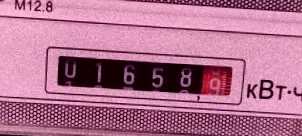0: (62, 56, 76, 79)
1: (92, 61, 103, 83)
5: (149, 64, 164, 88)
6: (120, 62, 135, 85)
8: (177, 65, 192, 87)
9: (205, 75, 220, 97)
screen: (37, 40, 252, 110)
